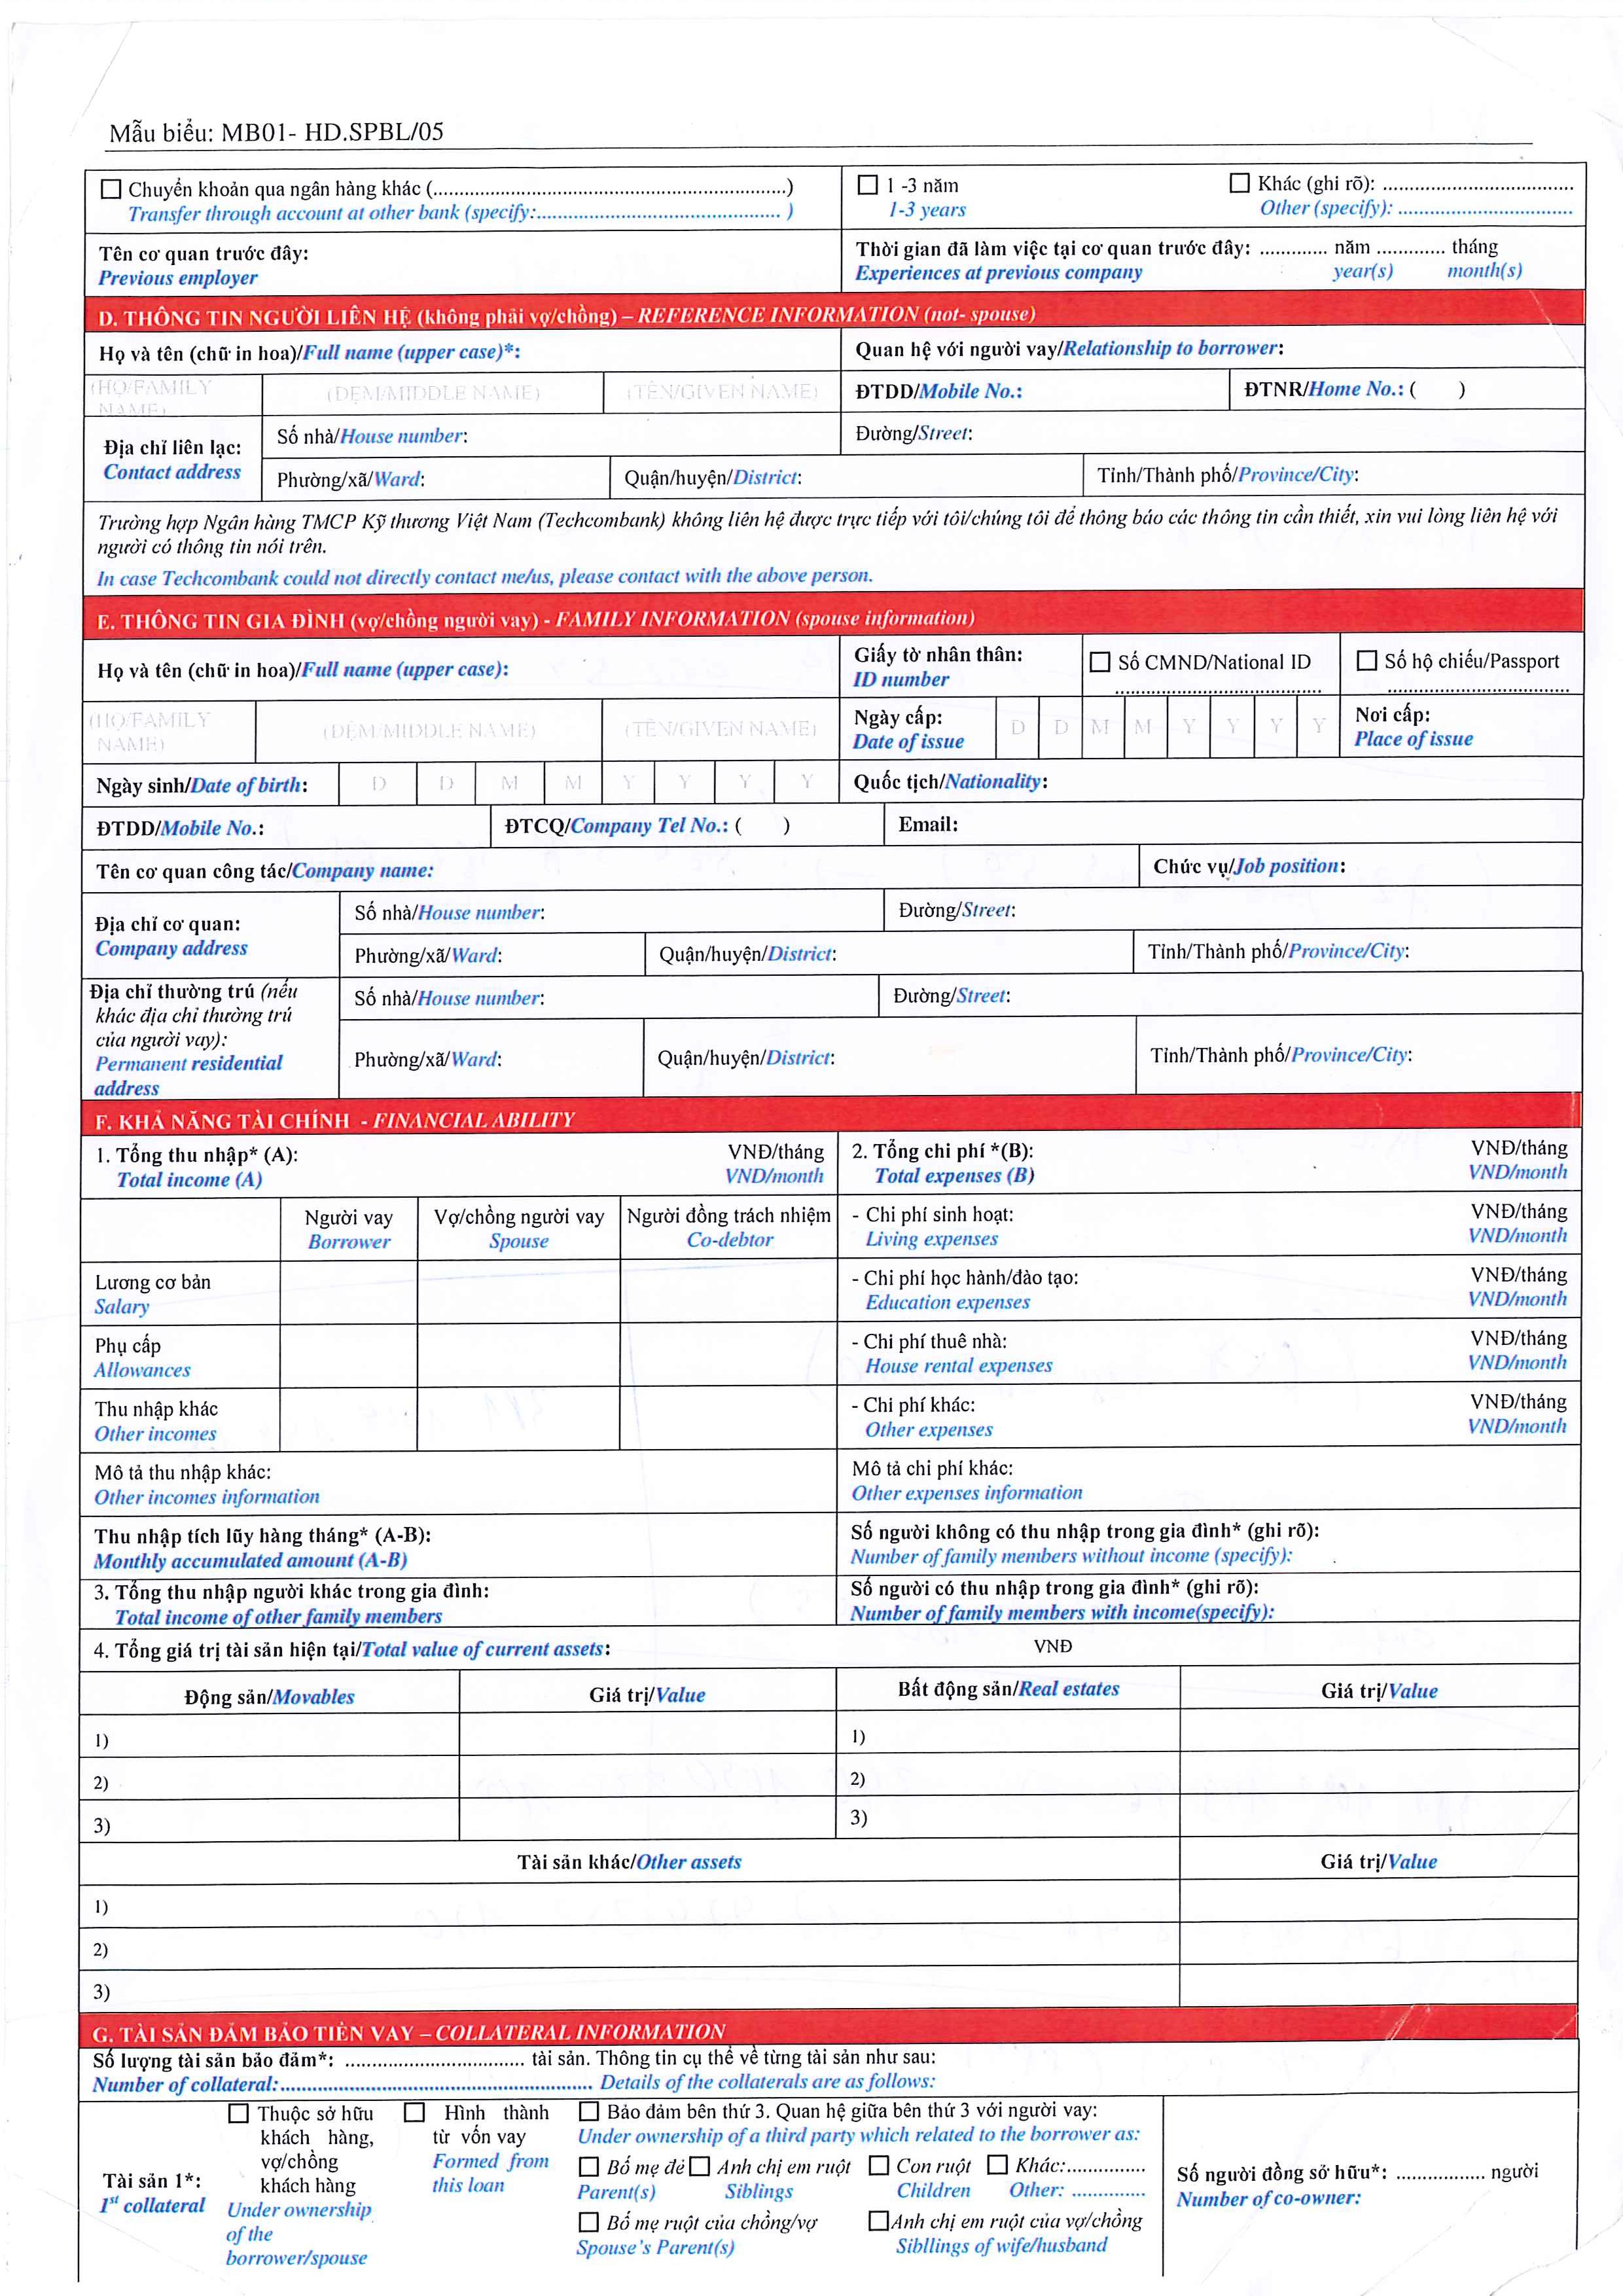g: (1224, 165, 1258, 202), (1351, 643, 1382, 676), (864, 2148, 894, 2184), (97, 172, 128, 204), (852, 169, 882, 202), (574, 2094, 604, 2127), (980, 2150, 1013, 2180), (223, 2096, 251, 2129), (574, 2206, 604, 2236), (1087, 646, 1115, 678), (400, 2096, 429, 2127), (689, 2148, 717, 2178), (866, 2206, 894, 2236), (573, 2150, 602, 2175)
